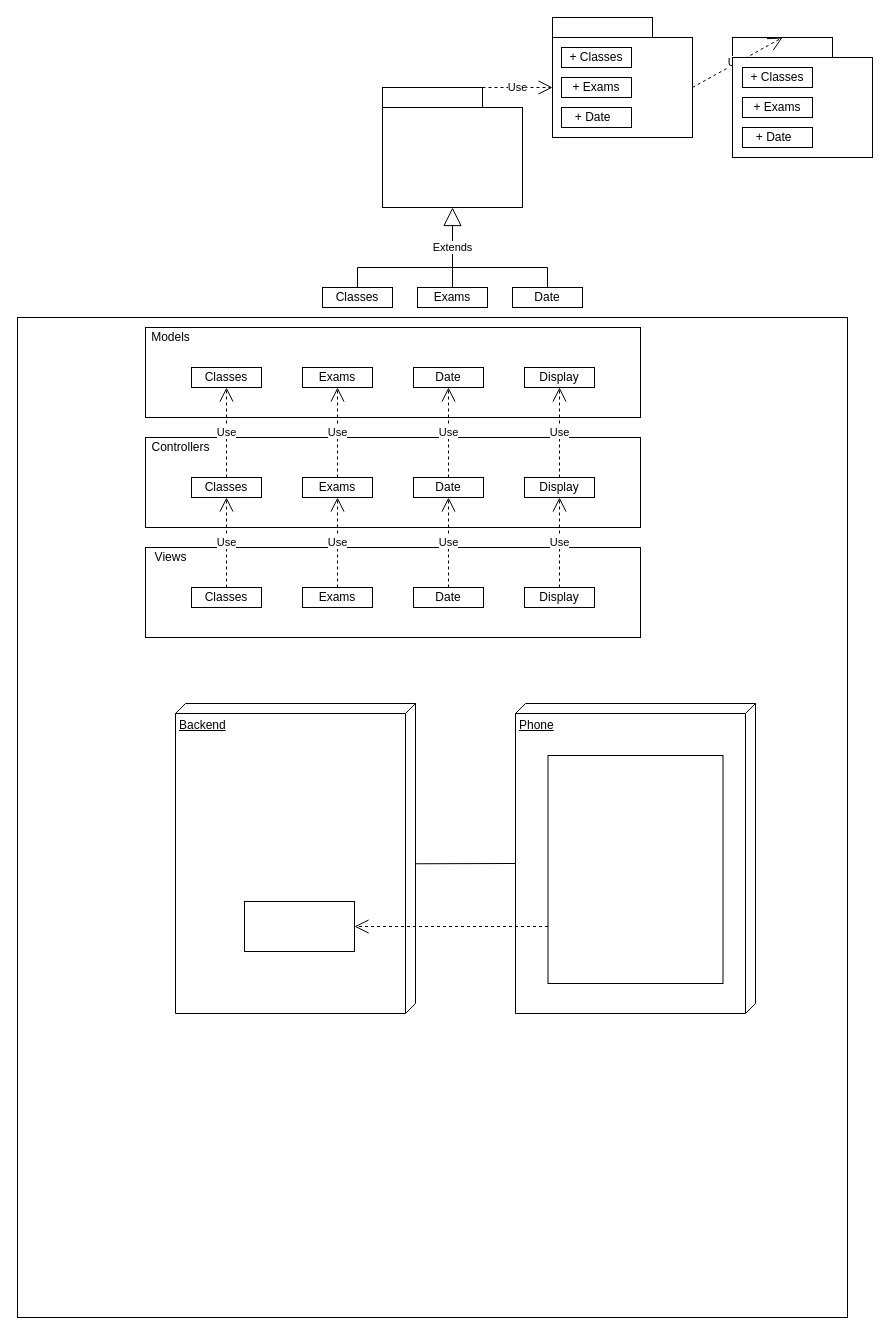
The diagram is 890 pixels wide and 1335 high, and some of its shapes have lost their labels. Each missing label, with the centre of its shape:
"Controller" belongs at point (602, 27).
"Fetch classes and exams data from Sigarra" belongs at point (299, 926).
"Model" belongs at point (782, 47).
"Schedule Widget (Flutter)" belongs at point (635, 869).
"View" belongs at point (432, 97).
